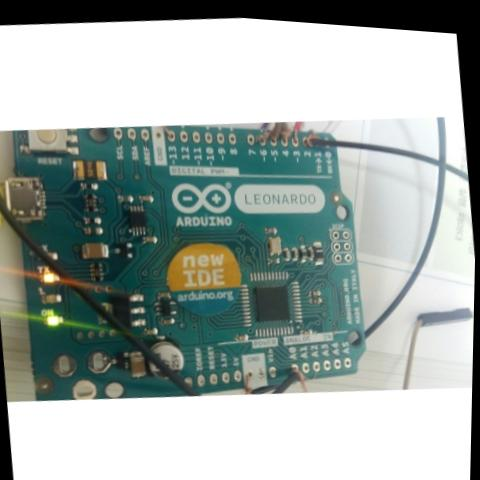Arduino-Leonardo: (0, 91, 391, 421)
